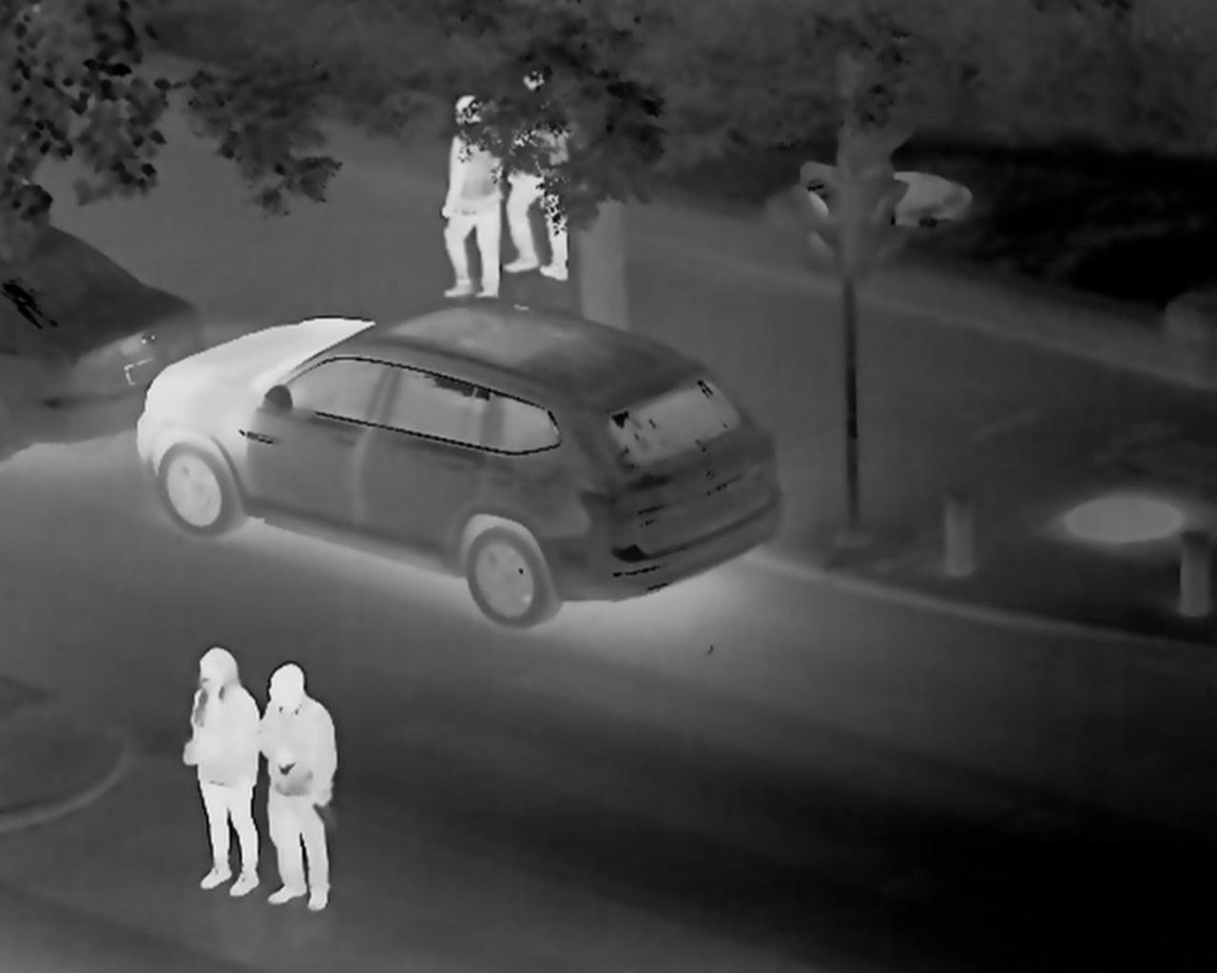person: (251, 660, 336, 917), (186, 639, 261, 899), (498, 65, 581, 284), (436, 93, 506, 306)
